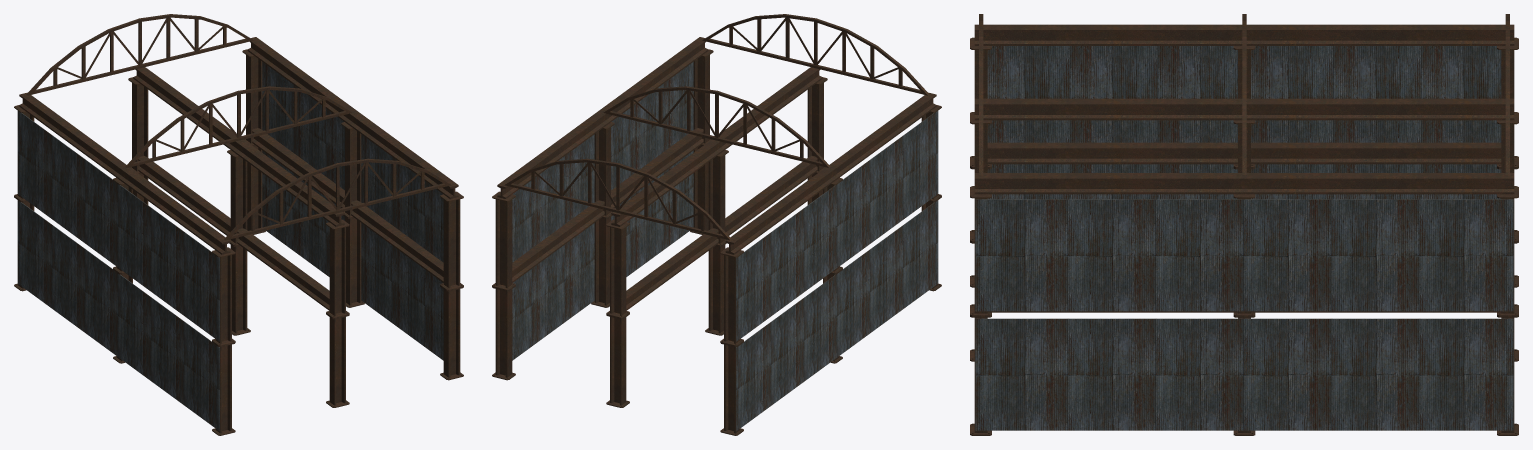
File: warehouse_hl_1.dae
3 renders of one model, left to right at view 1: azimuth 30°, elevation 25°; view 2: azimuth 150°, elevation 25°; view 3: azimuth 270°, elevation 25°, orthographic. The views are drawn at different scales.
Visible parts, largest first — view 1: warehouse_hl_1; view 2: warehouse_hl_1; view 3: warehouse_hl_1.
Boxes of the visible parts, x1,y1,x2,y2 form: warehouse_hl_1: [14, 14, 463, 435]; warehouse_hl_1: [492, 14, 941, 435]; warehouse_hl_1: [970, 14, 1518, 435].
Size of the model in its own units: 8.6 by 12.5 by 8.02.
2 materials, 2 textured.
